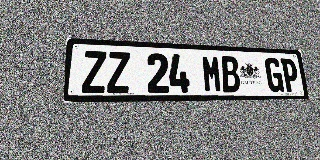2: (147, 53, 169, 93)
4: (168, 54, 190, 93)
B: (220, 56, 241, 92)
G: (264, 58, 284, 92)
M: (201, 55, 223, 92)
P: (280, 58, 300, 92)
Z: (82, 50, 106, 93), (107, 51, 130, 93)
